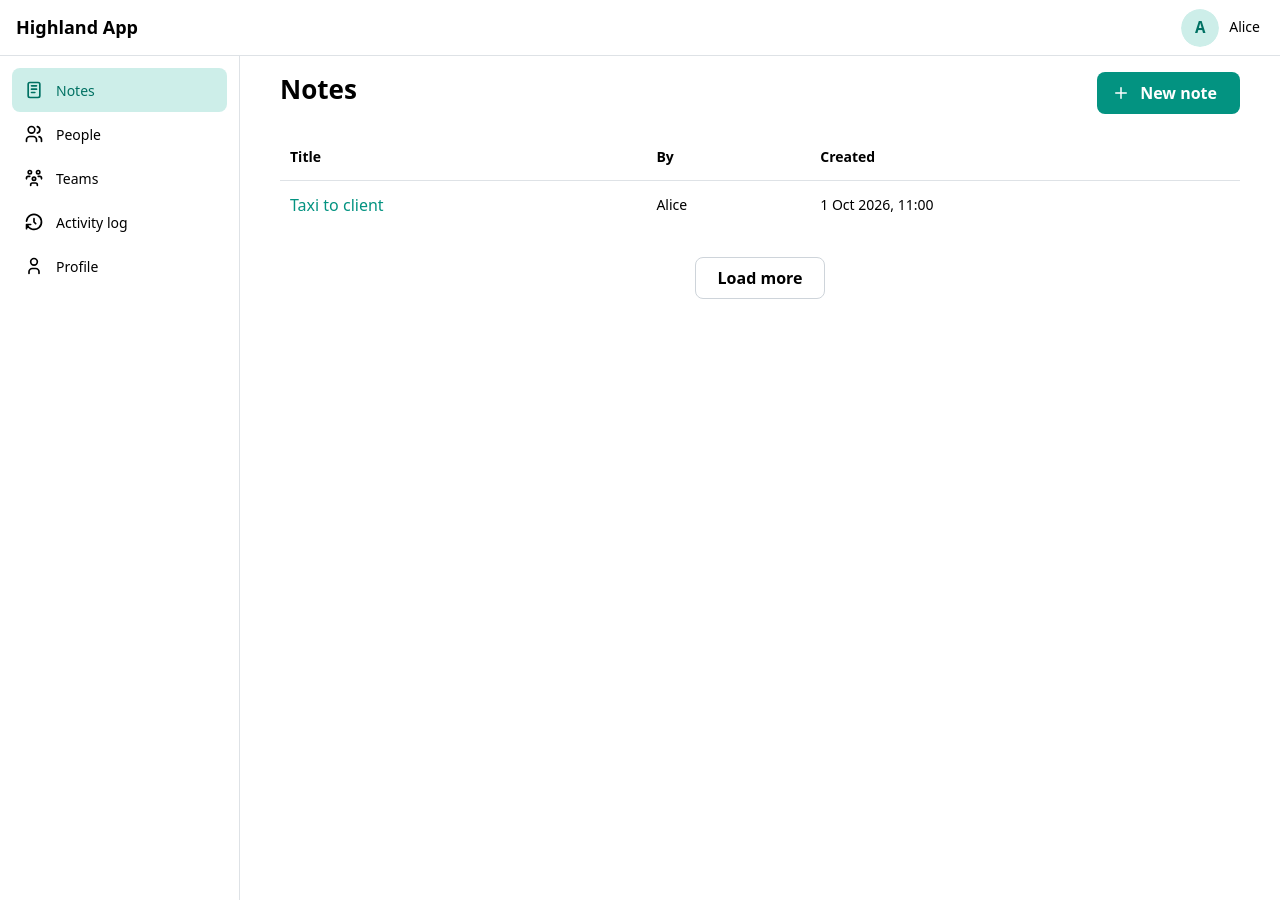
Test: the notes list loads more with the cursor
Click the button "Load more": (760, 278) [694,258,825,300]
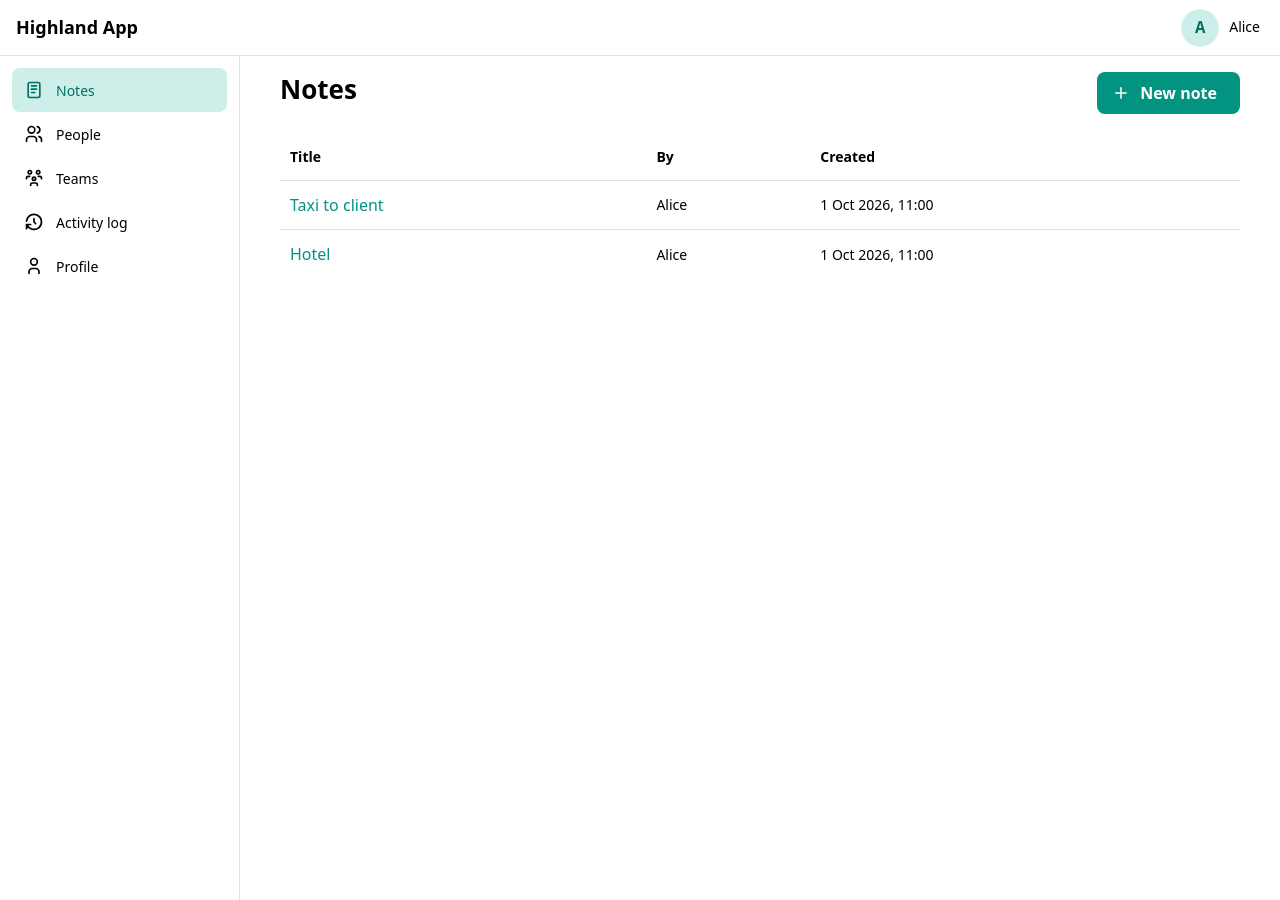
Expected: the link "Hotel" is shown, [290,244,330,266]
Expected: the button "Load more" is gone
